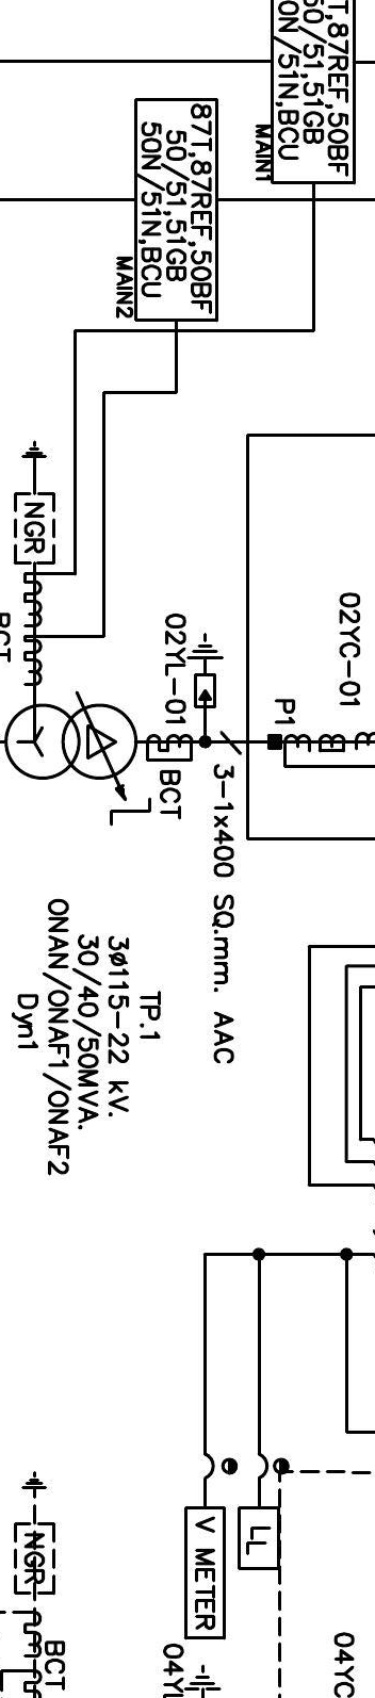11522_tx_dyn1: (3, 703, 138, 781)
115_la: (185, 631, 224, 709)
LL: (236, 1505, 281, 1571)
NGR_future: (13, 440, 56, 565)
v_m_digital: (183, 1505, 227, 1641)
